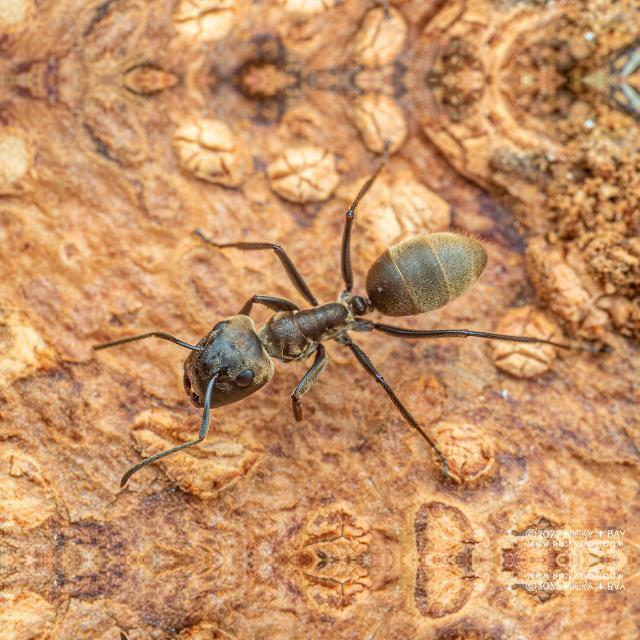Colobopsis: (121, 196, 529, 434)
